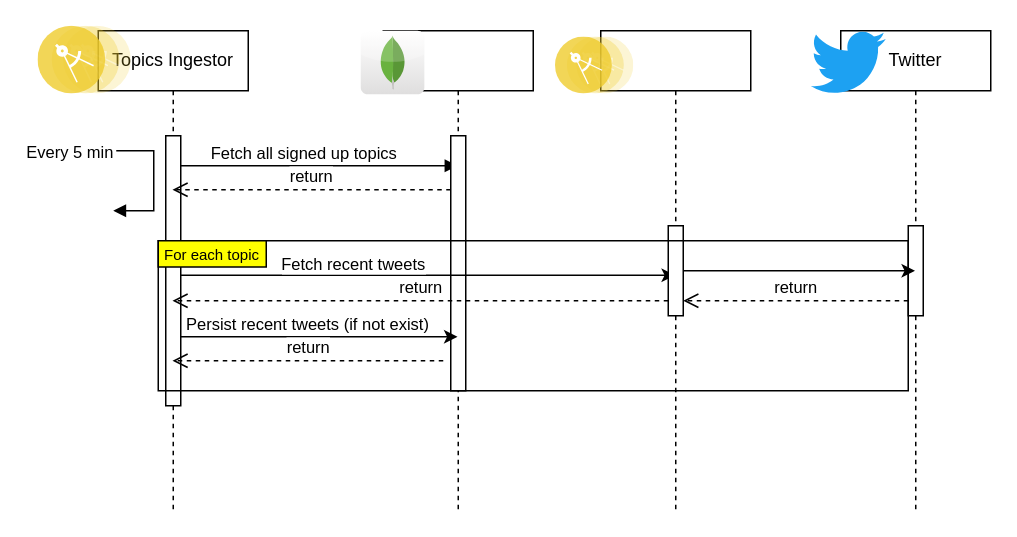
The diagram is 1017 pixels wide and 537 high, and some of its shapes have lost their labels. The shapes that lost their labels are listed below. From the top down, each one's box as (x1, y1, x2, y2) in pixels, then its label:
(382, 29, 533, 511): DB
(599, 29, 751, 511): Twitter Gateway
